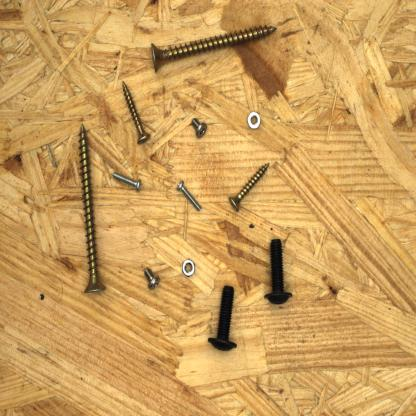screw: (147, 20, 280, 76), (75, 122, 110, 296), (222, 157, 276, 216), (118, 75, 154, 150), (175, 176, 204, 216), (110, 166, 146, 193), (140, 262, 166, 298), (188, 113, 210, 138)
